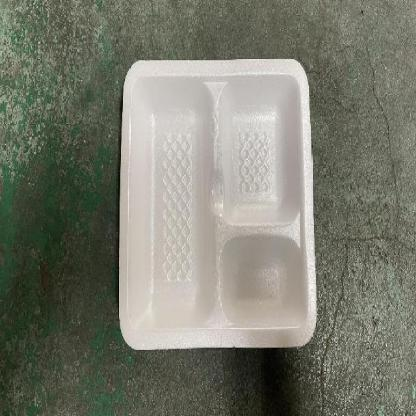Glass Cup: (119, 59, 317, 351), (120, 58, 316, 350)
